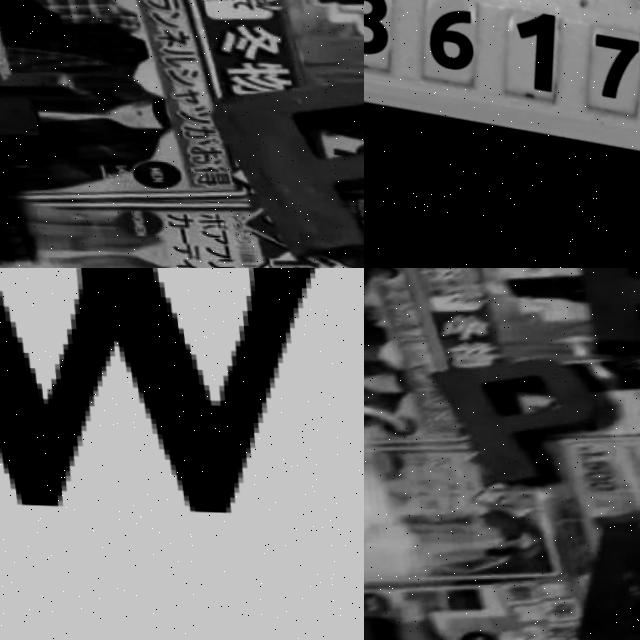1: (484, 0, 556, 93)
3: (364, 0, 392, 62)
6: (404, 0, 477, 80)
7: (568, 18, 640, 107)
B: (562, 518, 640, 640)
K: (569, 268, 640, 354)
P: (206, 70, 364, 259), (425, 356, 602, 481)
T: (0, 85, 51, 266)
W: (0, 268, 364, 525)
